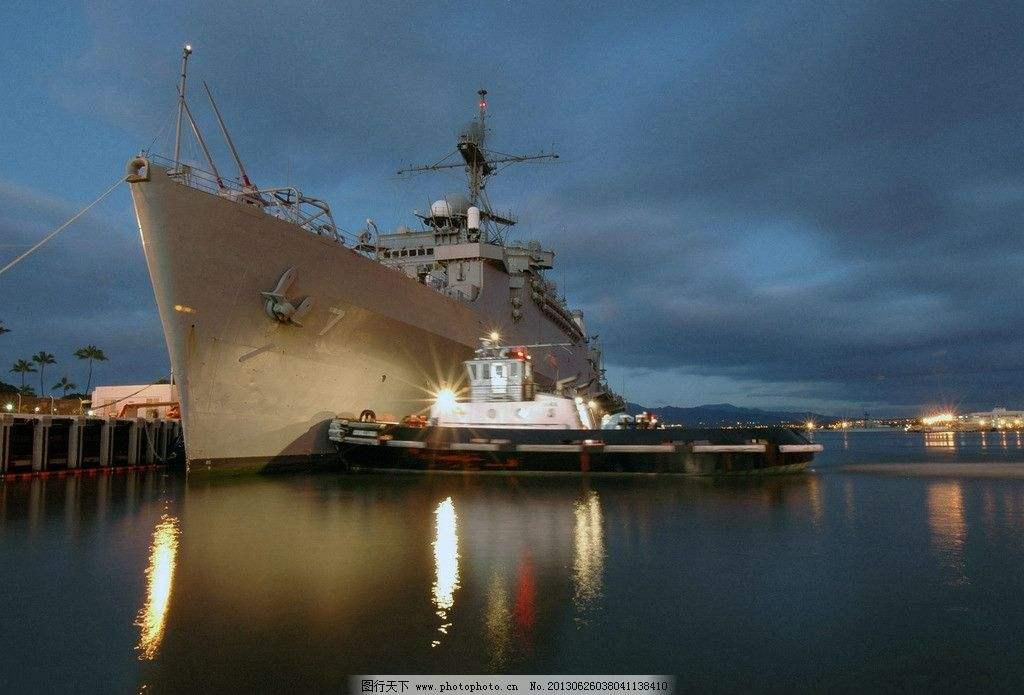otherboat: (312, 349, 826, 491)
warship: (125, 91, 620, 458)
